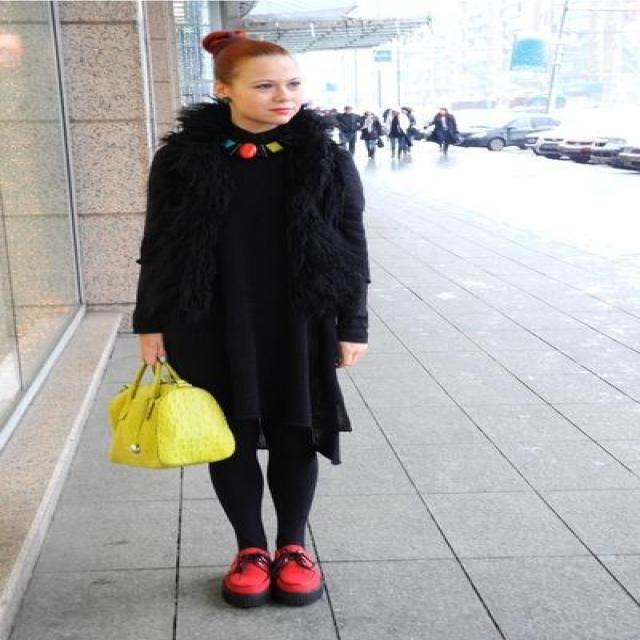bag: (109, 359, 234, 468)
dress: (133, 97, 370, 473)
shoe: (221, 543, 334, 625)
